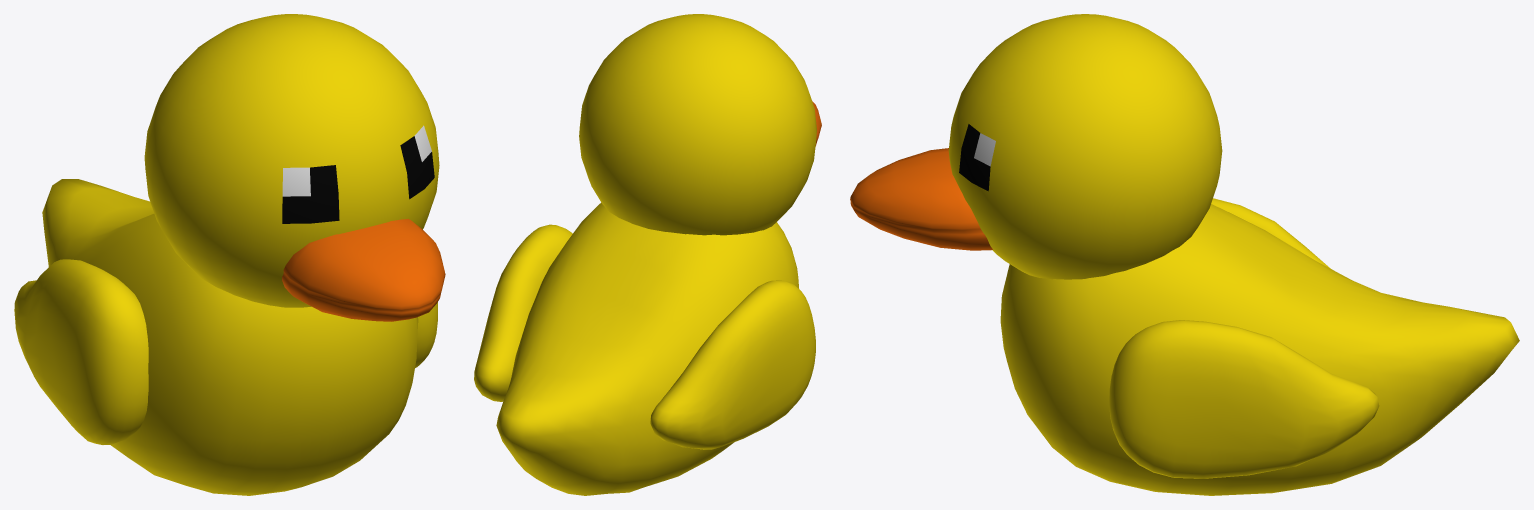
The model's file is Duck.glb.
3 renders of one model, left to right at view 1: azimuth 30°, elevation 25°; view 2: azimuth 150°, elevation 25°; view 3: azimuth 270°, elevation 25°, orthographic. The views are drawn at different scales.
Parts seen in each view (by area): view 1: Cube, Cube.002, Cube.001; view 2: Cube, Cube.002; view 3: Cube, Cube.002, Cube.001.
Part boxes in pixels (box(x1,y1,x2,y2)): Cube: box(42, 14, 439, 495); Cube.002: box(14, 259, 437, 444); Cube.001: box(282, 218, 445, 321); Cube: box(496, 14, 816, 495); Cube.002: box(474, 224, 815, 449); Cube: box(948, 14, 1519, 495); Cube.002: box(1109, 198, 1379, 478); Cube.001: box(850, 148, 992, 250).
Bounding box in the file's own units: 0.219 × 0.2944 × 0.3967.
